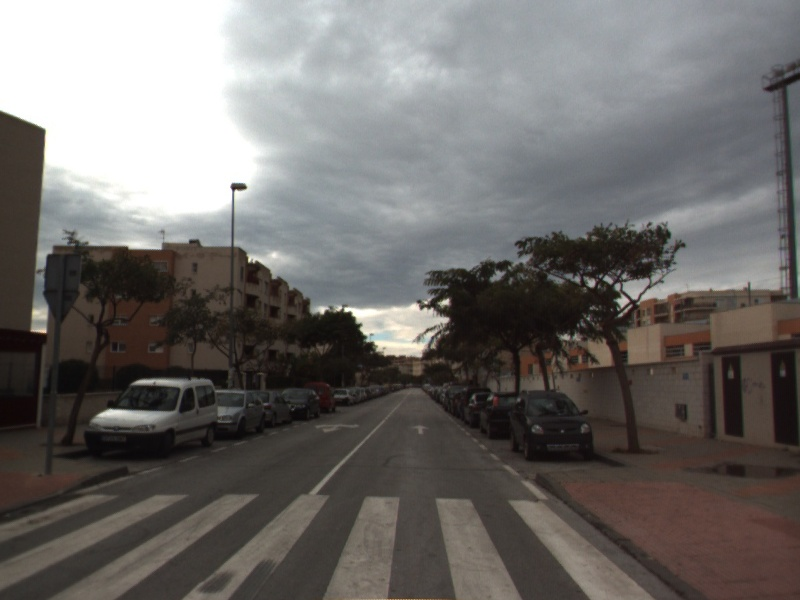STRAIGHT: (410, 422, 430, 436)
